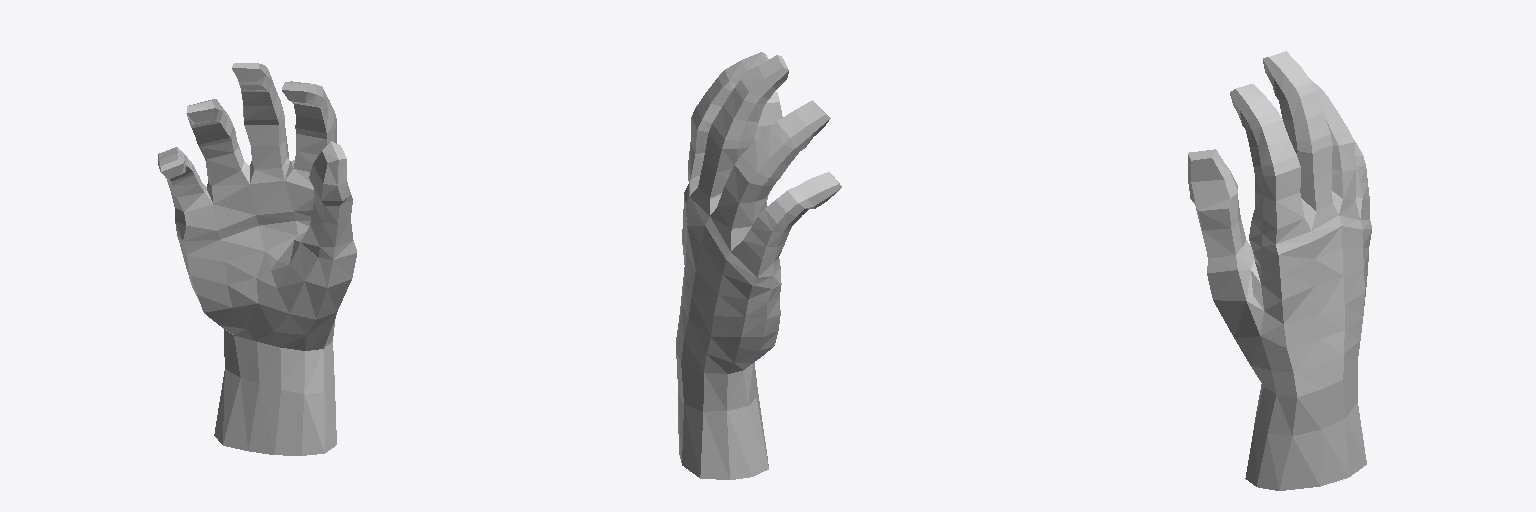
File: mall_mannequin_rhand.obj
3 views of the same model, side by side, from view 1: azimuth 30°, elevation 25°; view 2: azimuth 150°, elevation 25°; view 3: azimuth 270°, elevation 25° (orthographic).
Parts seen in each view (by area): view 1: mall_mannequin_rhand; view 2: mall_mannequin_rhand; view 3: mall_mannequin_rhand.
Part boxes in pixels (x1,y1,x2,y2): mall_mannequin_rhand: (158,63,356,455); mall_mannequin_rhand: (676,52,841,479); mall_mannequin_rhand: (1188,51,1371,490).
Bounding box in the file's own units: 4.38 × 9.73 × 4.12.